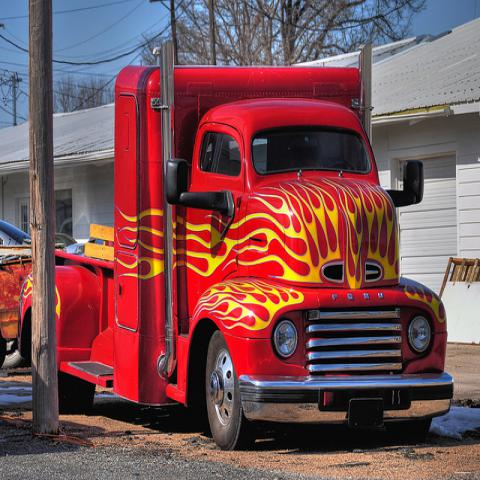car: (1, 217, 32, 247)
truck: (56, 37, 457, 454)
